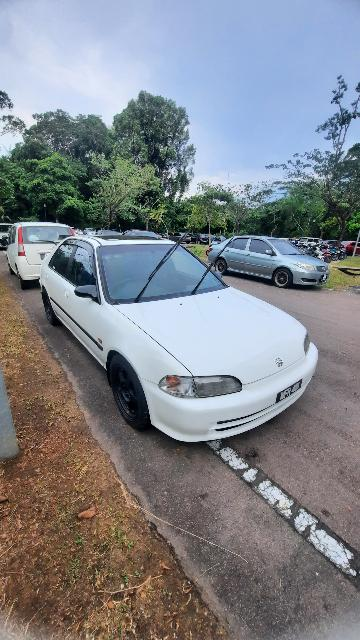License_Plate: (274, 374, 316, 418)
car: (38, 230, 326, 451)
